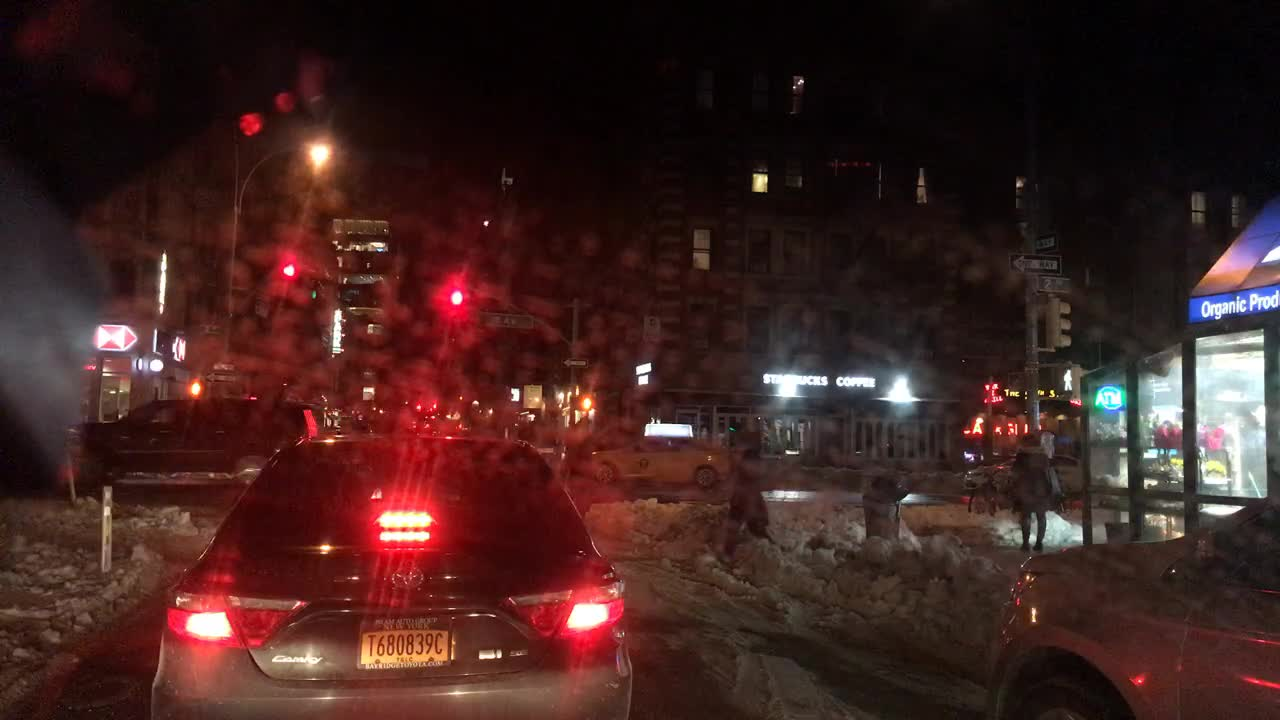car: (150, 426, 653, 718), (980, 482, 1279, 718), (62, 398, 315, 506), (584, 420, 735, 491), (960, 455, 1080, 492), (562, 428, 634, 470), (501, 415, 536, 442), (352, 410, 374, 431), (417, 421, 442, 438), (447, 415, 465, 435), (395, 411, 413, 431)
person: (1009, 428, 1054, 555), (725, 452, 771, 546)
traffic light: (1048, 300, 1071, 354), (452, 290, 464, 320), (968, 415, 982, 437), (579, 394, 590, 415), (187, 381, 199, 398), (287, 259, 292, 288), (430, 399, 435, 415), (417, 398, 420, 415)
traffic sign: (1009, 248, 1063, 271), (1032, 269, 1076, 295), (474, 310, 533, 327), (1029, 232, 1051, 253), (563, 354, 589, 369), (206, 372, 241, 383), (212, 362, 236, 374), (197, 322, 219, 334)
